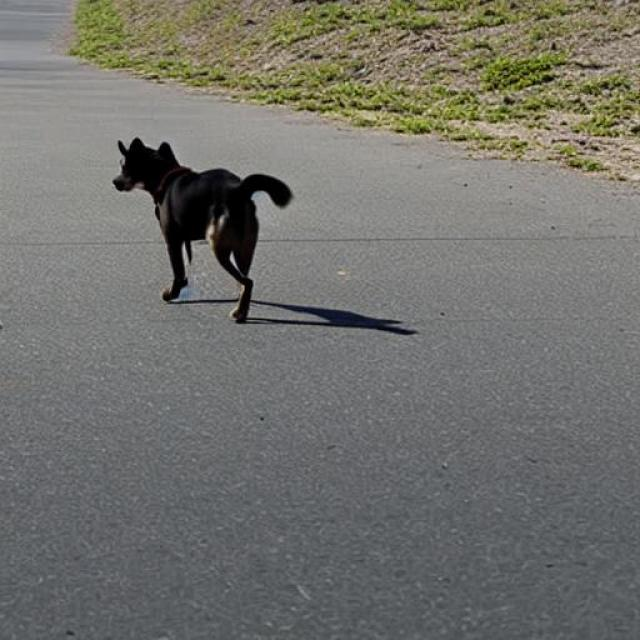Dog: (113, 137, 294, 325)
